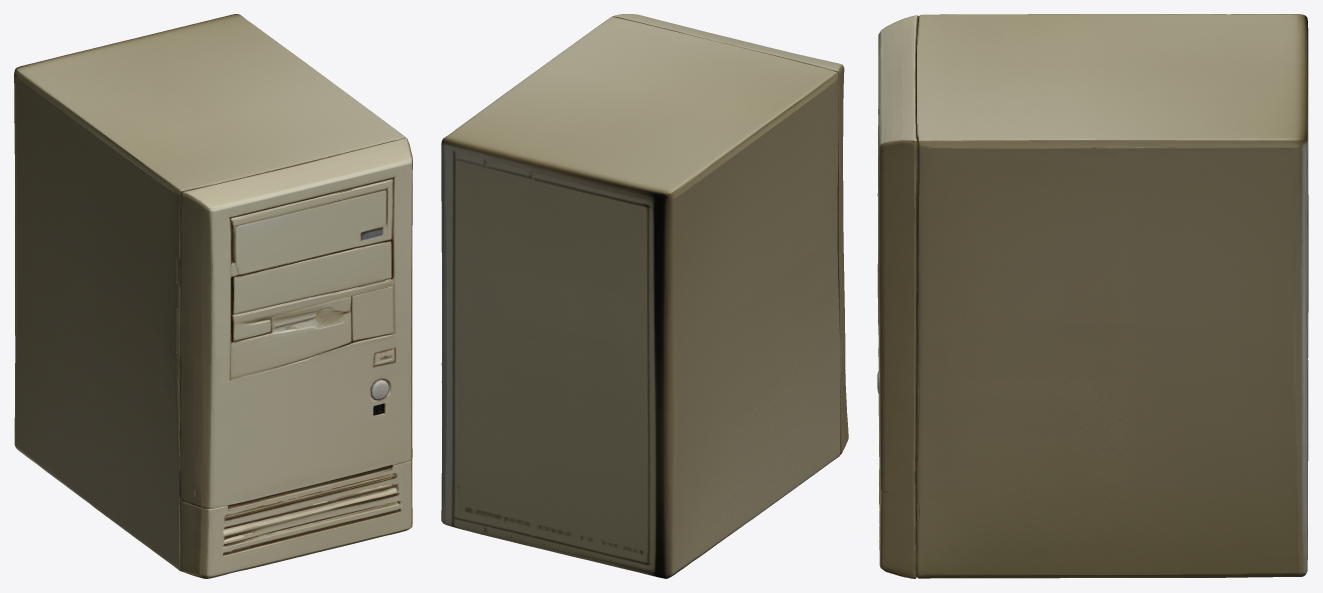
The model's file is computer-tower-2.glb.
3 views of the same model, side by side, from view 1: azimuth 30°, elevation 25°; view 2: azimuth 150°, elevation 25°; view 3: azimuth 270°, elevation 25° (orthographic). The views are drawn at different scales.
Visible parts, largest first — view 1: world; view 2: world; view 3: world.
Part boxes in pixels (x1,y1,x2,y2): world: [14, 14, 412, 578]; world: [441, 14, 848, 578]; world: [877, 14, 1308, 578].
Size of the model in its own units: 0.6349 by 0.999 by 0.8867.
1 material, 1 textured.
